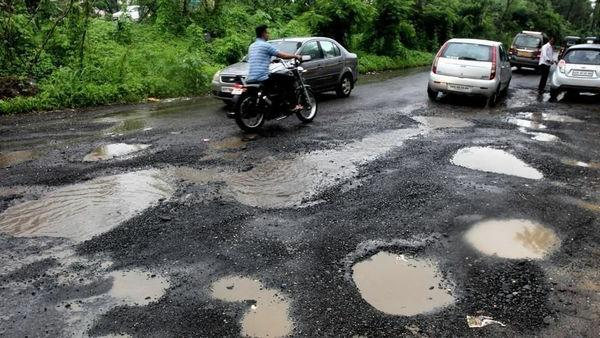pothole: (1, 155, 187, 248), (336, 240, 469, 326), (218, 143, 352, 221), (451, 204, 578, 270), (202, 257, 308, 336), (436, 140, 560, 184), (100, 257, 180, 315), (72, 138, 152, 169)
